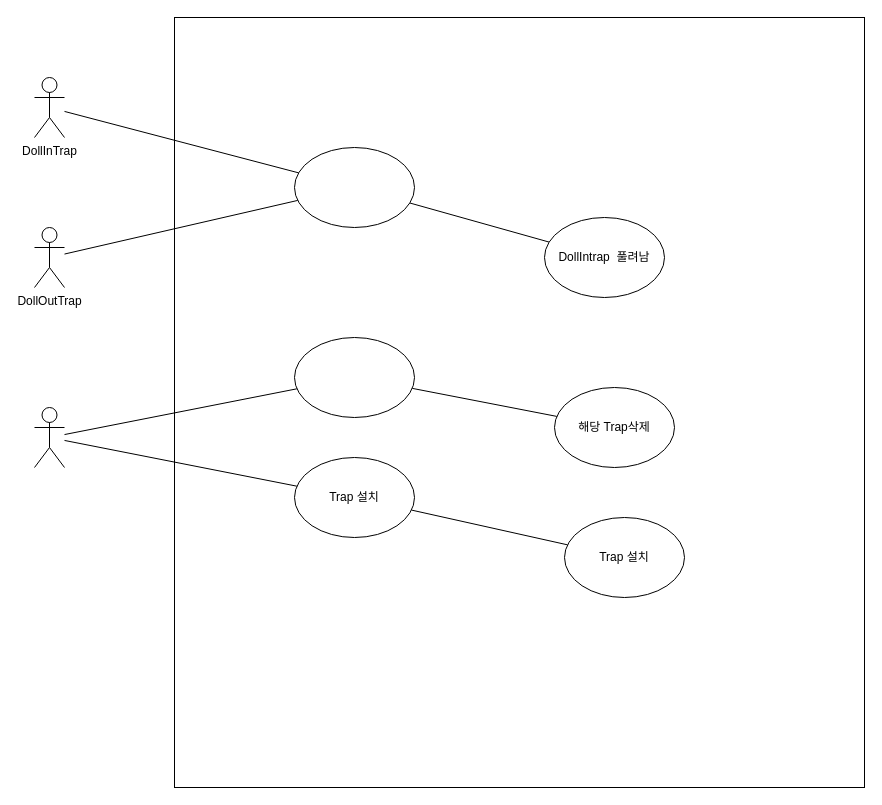
The diagram is 882 pixels wide and 805 high, and some of its shapes have lost their labels. The centre of each missing label's shape, as x and y in pixels:
"Exorcist" belongs at point (49, 437).
"Trap 회수" belongs at point (354, 377).
"Trap을 해제" belongs at point (354, 187).
